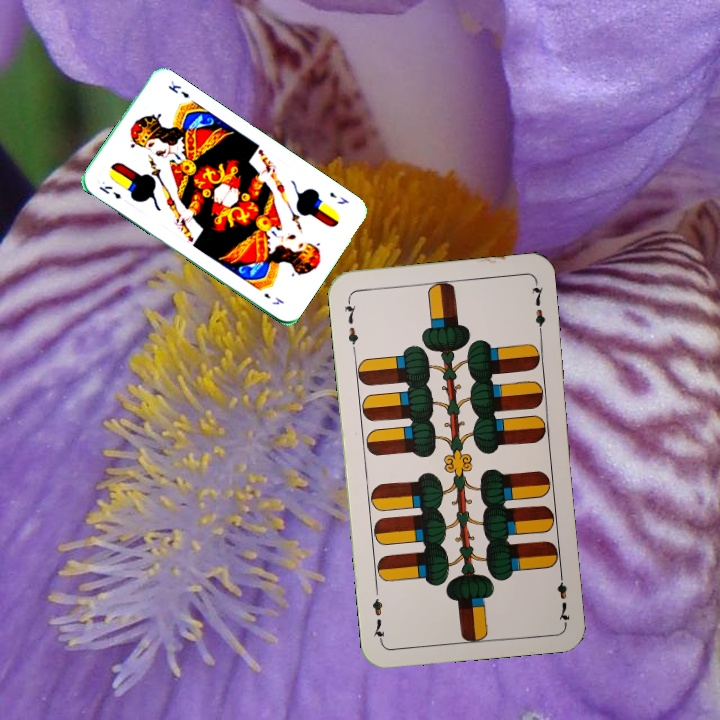E7: (340, 295, 361, 354), (553, 566, 573, 625)
EK: (95, 182, 124, 202), (325, 188, 351, 207)
